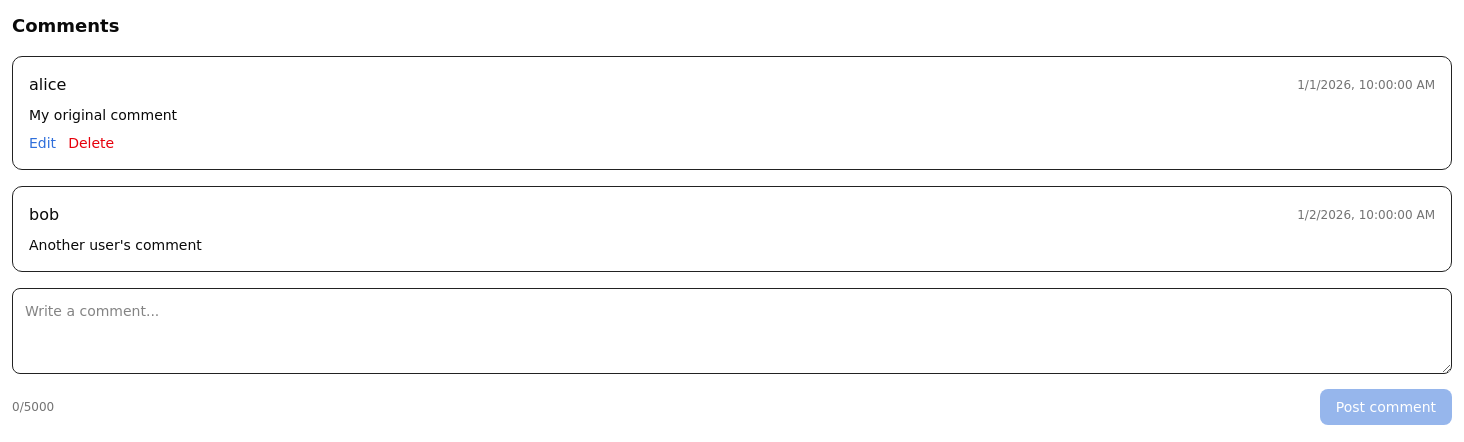
it: SkillComments › allows the owner to delete their comment
Expected: the text "My original comment" is shown, [29,107,177,123]
What coordinates should you click on to do the following:
click the button "Delete"
I would click on:
 (91, 143)
Its box is [68,133,114,153].
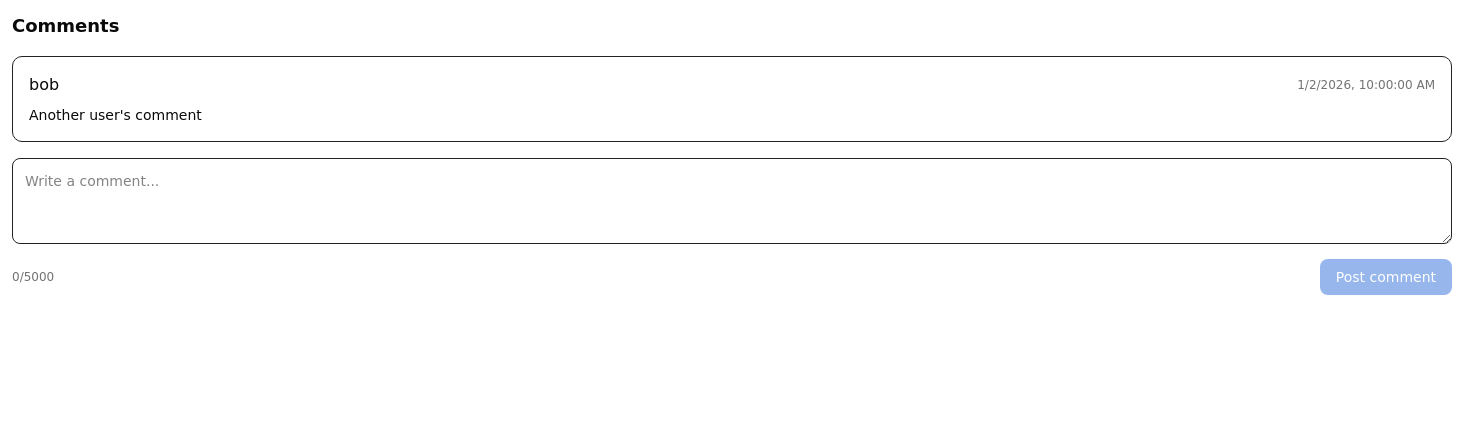
Now the text "My original comment" is gone
